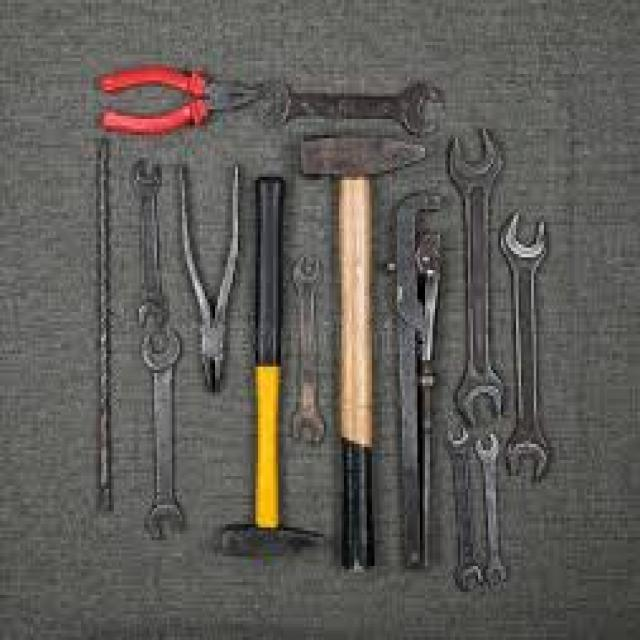hammer: (292, 128, 434, 582), (218, 170, 328, 564)
pliers: (175, 158, 247, 398), (90, 55, 262, 141)
wrench: (443, 120, 508, 431), (498, 205, 553, 489), (258, 73, 444, 141), (138, 326, 192, 547), (288, 251, 330, 452), (442, 424, 484, 595), (131, 155, 171, 330), (472, 428, 511, 588)
